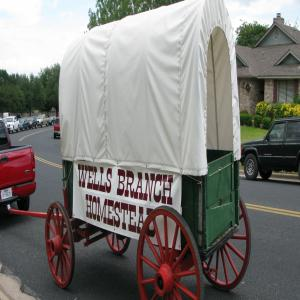Vehicle-registration-plate: (1, 187, 13, 200)
